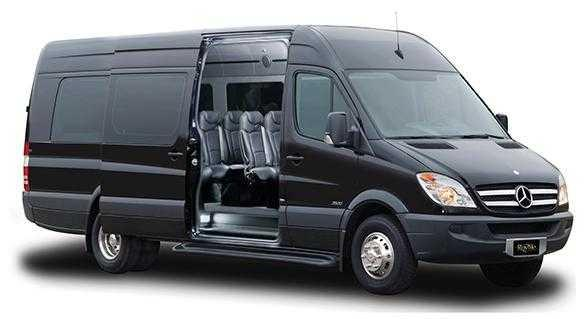car: (32, 37, 563, 302)
